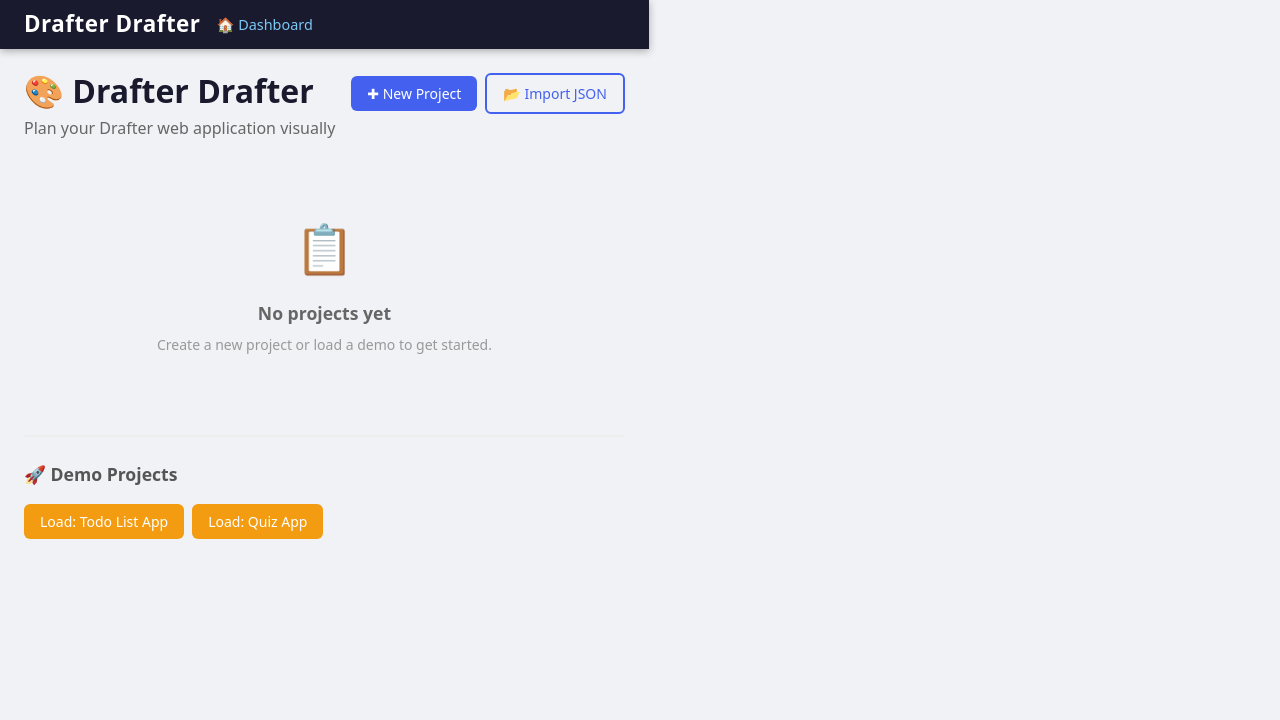
Can cancel new project modal
Click the button "✚ New Project".
click(414, 93)  # box [351, 76, 477, 111]
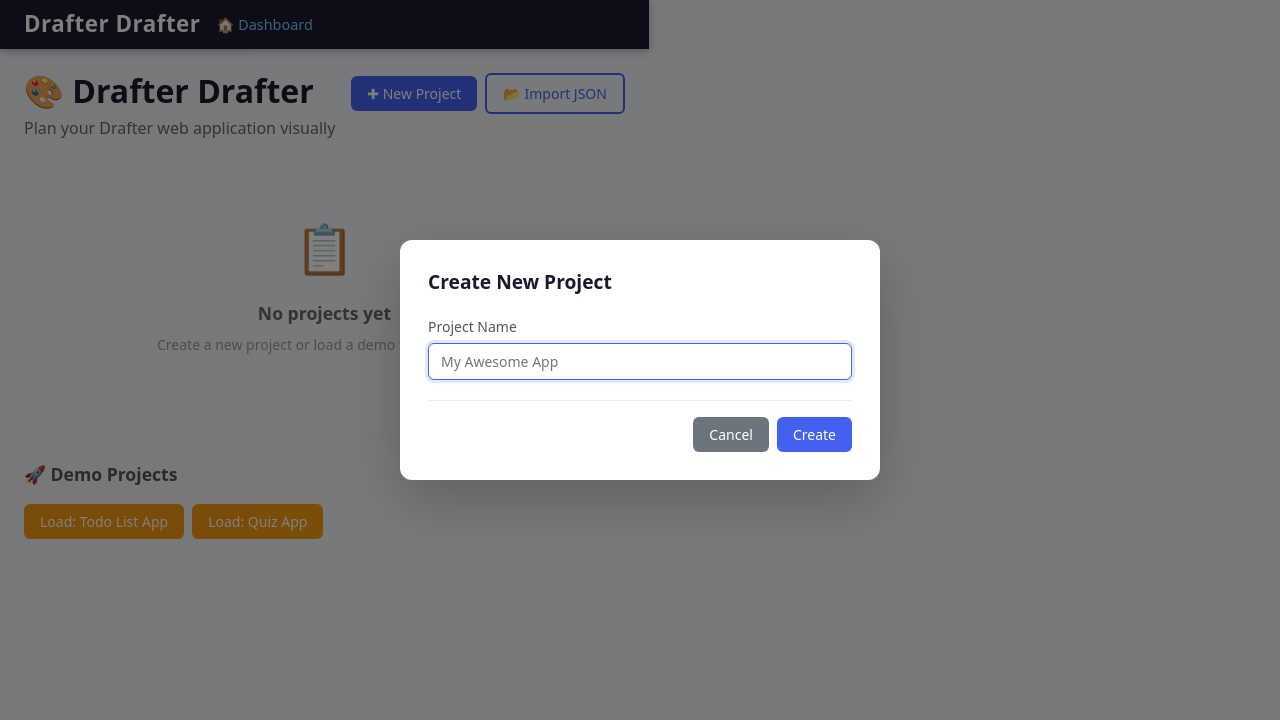
Click the button "Cancel".
click(731, 435)  # box [693, 417, 769, 452]
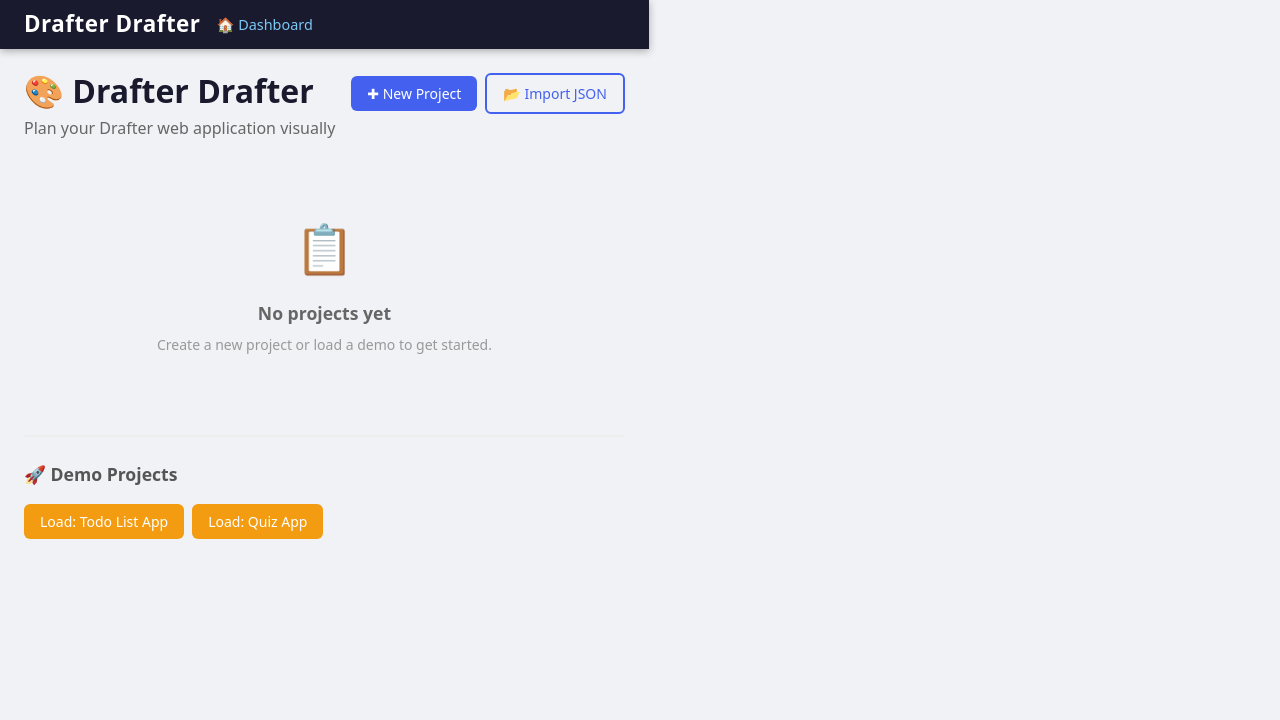
Check: the heading "Create New Project" is gone
